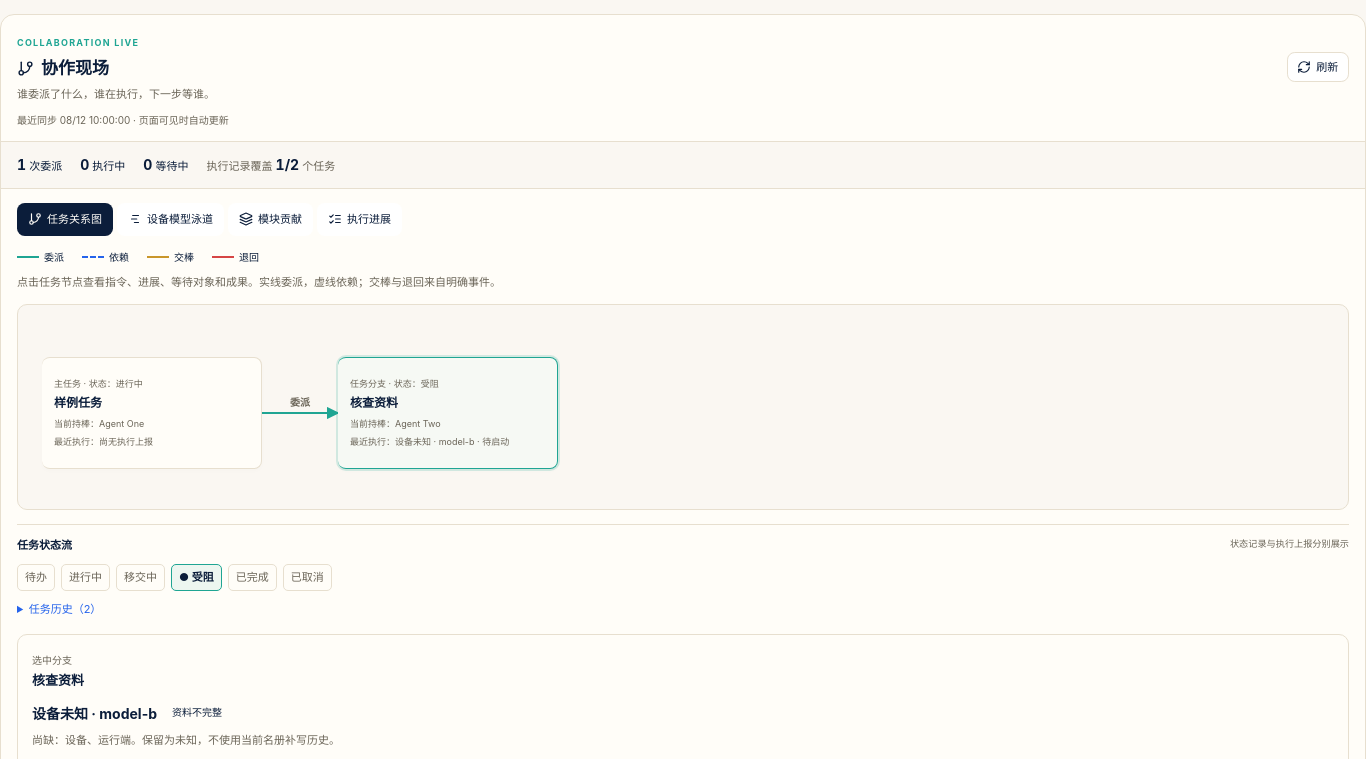
Test: 已准备但未实际启动的执行不能计入执行中
The width and height of the screenshot is (1366, 759).
Expected: the element named "已记录的协作概况" shows "0 执行中", [1,141,1365,188]
What coordinates should you click on to do the following:
click the button "执行进展"
I would click on:
 (360, 219)
Its box is [317,202,402,236].
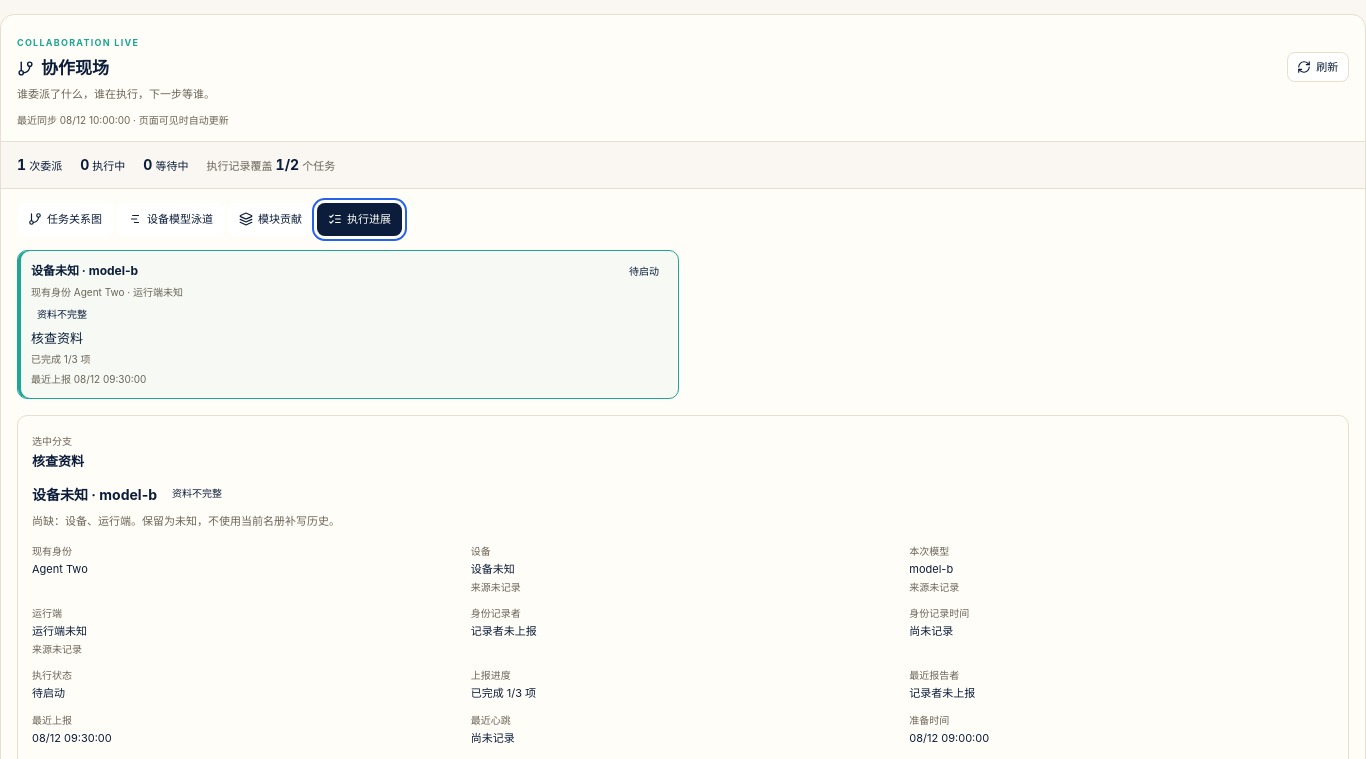
Expected: the button with aria-label "设备未知 · model-b · Agent Two · 待启动 · 核查资料" is shown, [17,250,679,399]
